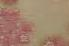plaque psoriasis: (0, 6, 35, 46), (38, 36, 69, 46), (0, 0, 55, 5)
